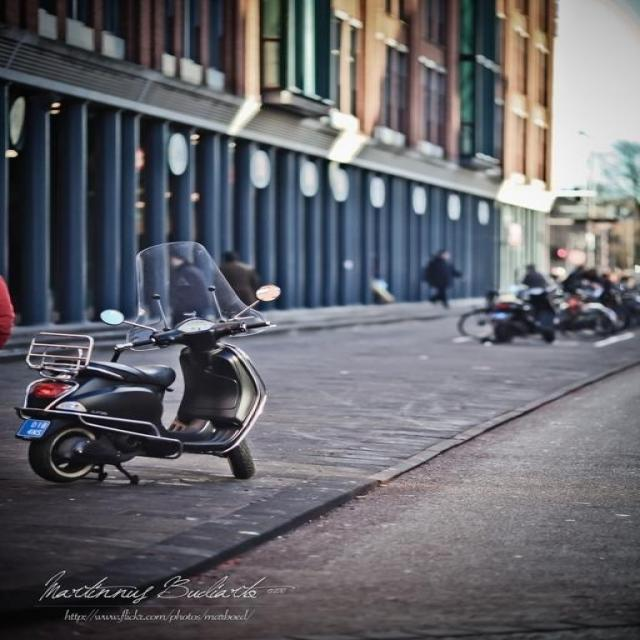scooter: (17, 242, 279, 483), (490, 288, 554, 342)
